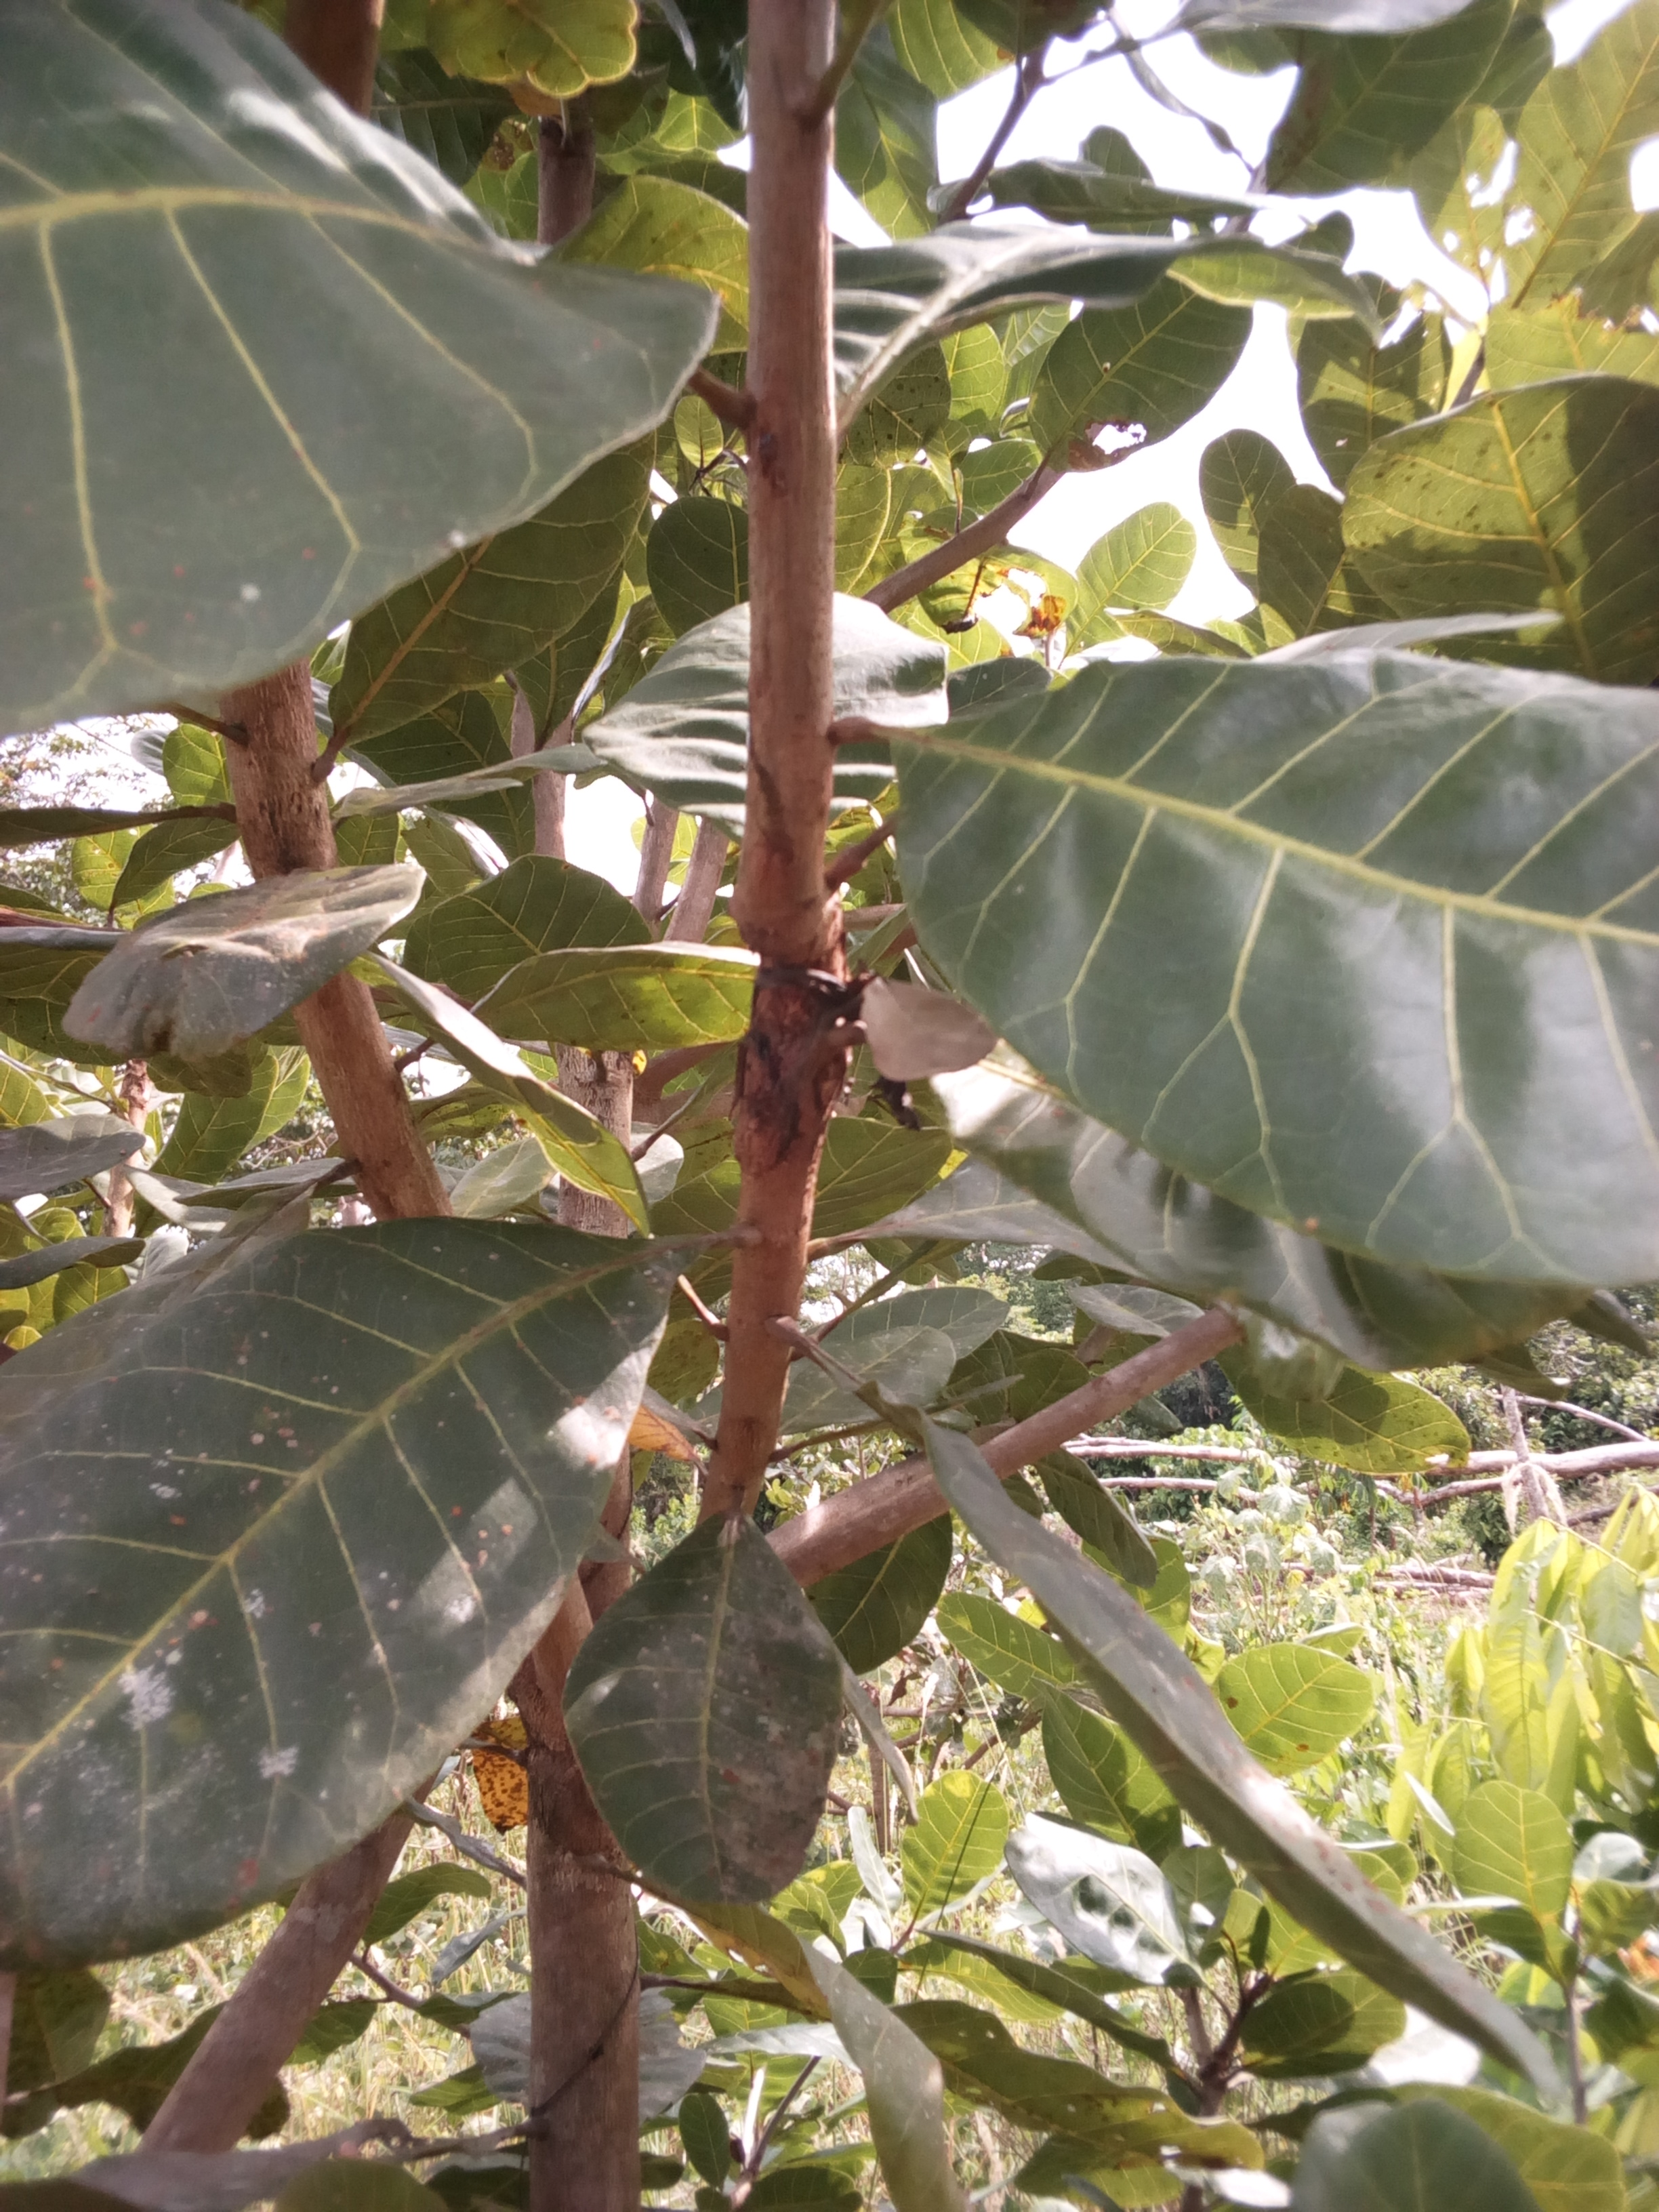ploceadorus ferrugineus: (701, 906, 897, 1278)
